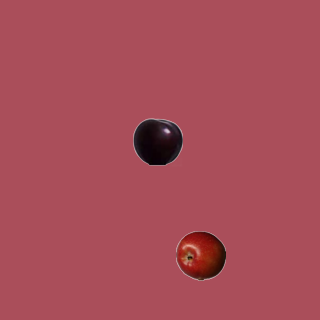Apple Braeburn: (175, 230, 225, 280)
Cherry Wax Black: (132, 116, 182, 166)
